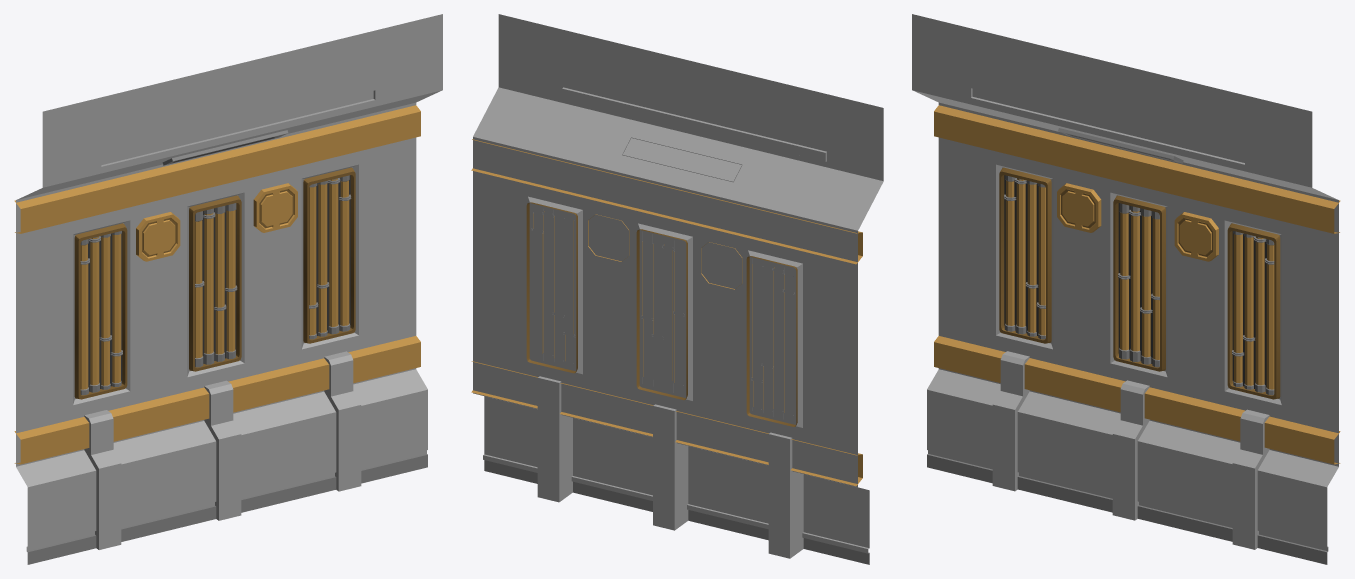
The model's file is Wall_2_GD.glb.
3 renders of one model, left to right at view 1: azimuth 30°, elevation 25°; view 2: azimuth 150°, elevation 25°; view 3: azimuth 330°, elevation 25°, orthographic. The views are drawn at different scales.
Parts seen in each view (by area): view 1: Wall_2; view 2: Wall_2; view 3: Wall_2.
Boxes of the visible parts, bbox=[...] form: Wall_2: bbox=[14, 14, 442, 564]; Wall_2: bbox=[471, 14, 883, 564]; Wall_2: bbox=[912, 14, 1340, 564].
Bounding box in the file's own units: 30 × 33.23 × 4.
